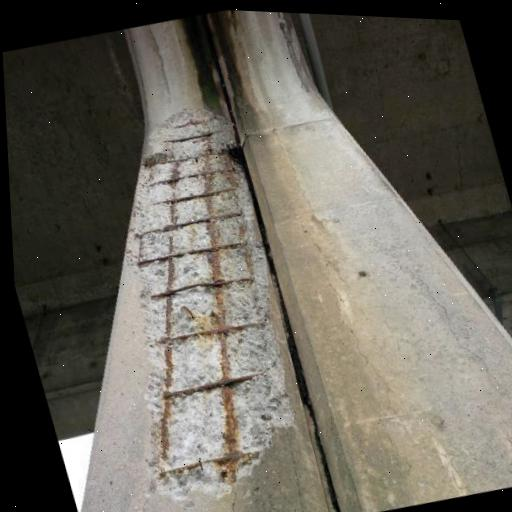spalling: (127, 109, 295, 493)
